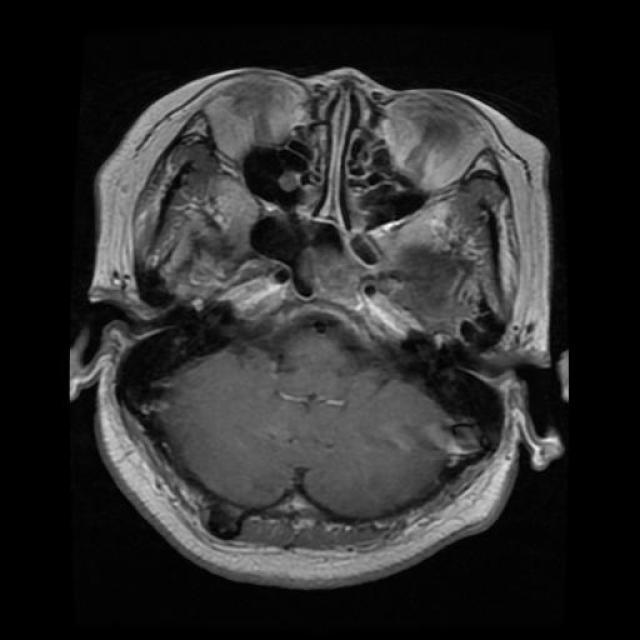pituitary: (229, 277, 427, 349)
